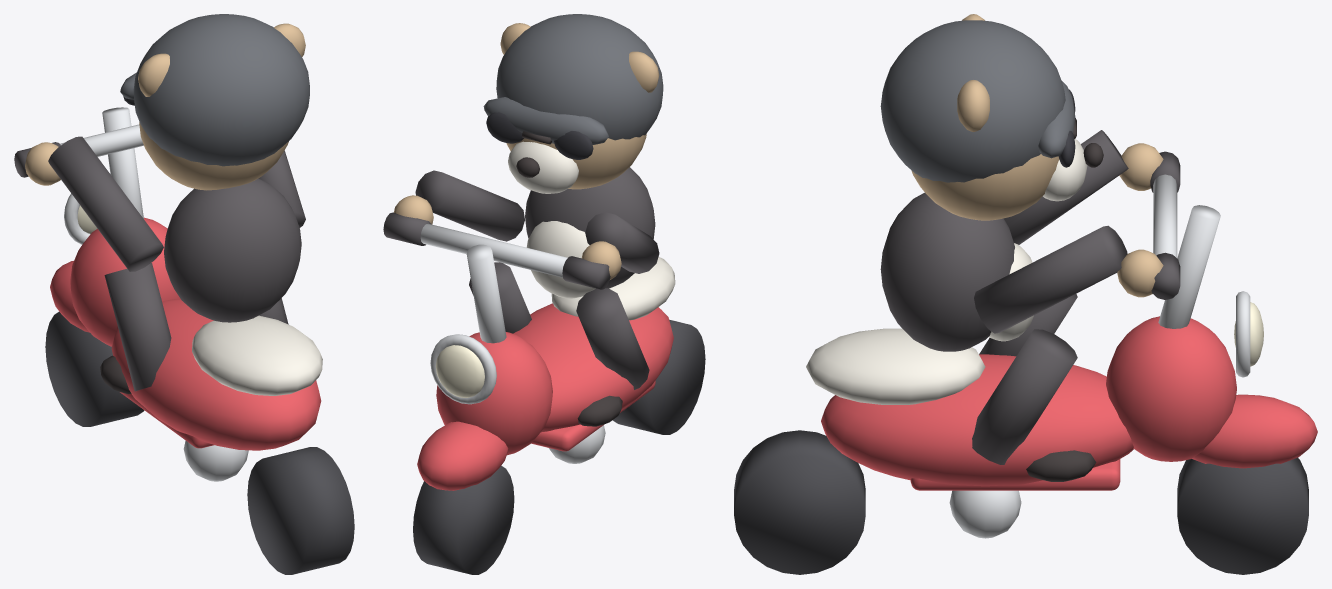
Rendered from Pet_BikerThug.fbx.
The picture shows the model from 3 angles, left to right: view 1: azimuth 30°, elevation 25°; view 2: azimuth 150°, elevation 25°; view 3: azimuth 270°, elevation 25°; orthographic projection. The views are drawn at different scales.
Visible parts, largest first — view 1: Helmet, Torso, Pet_BikerThug, WheelB, Seat, ArmL, WheelF, LegL, Front, Head, Column, WheelB_Hub (+9 smaller); view 2: Helmet, Pet_BikerThug, WheelF, Front, Torso, WheelB, FenderF, ArmR, LegL, Handlebar, Seat, Visor (+19 smaller); view 3: Helmet, Pet_BikerThug, WheelB, Torso, Front, WheelF, Seat, ArmR, LegR, FenderF, Head, Column (+15 smaller).
Boxes of the visible parts, bbox=[...] form: Helmet: bbox=[133, 14, 309, 166]; Torso: bbox=[164, 178, 301, 322]; Pet_BikerThug: bbox=[111, 299, 321, 450]; WheelB: bbox=[247, 447, 354, 574]; Seat: bbox=[192, 315, 322, 395]; ArmL: bbox=[48, 136, 163, 271]; WheelF: bbox=[45, 311, 144, 426]; LegL: bbox=[104, 263, 171, 391]; Front: bbox=[70, 217, 180, 346]; Head: bbox=[139, 122, 288, 190]; Column: bbox=[102, 107, 143, 218]; WheelB_Hub: bbox=[183, 440, 248, 481]; Helmet: bbox=[496, 14, 663, 140]; Pet_BikerThug: bbox=[513, 303, 673, 432]; WheelF: bbox=[413, 465, 514, 574]; Front: bbox=[436, 332, 552, 455]; Torso: bbox=[525, 167, 655, 288]; WheelB: bbox=[612, 319, 705, 434]; FenderF: bbox=[417, 421, 508, 490]; ArmR: bbox=[415, 170, 524, 241]; LegL: bbox=[576, 288, 649, 389]; Handlebar: bbox=[420, 223, 567, 277]; Seat: bbox=[551, 257, 675, 320]; Visor: bbox=[483, 97, 608, 144]; Helmet: bbox=[880, 20, 1065, 182]; Pet_BikerThug: bbox=[821, 354, 1133, 486]; WheelB: bbox=[734, 430, 865, 574]; Torso: bbox=[880, 192, 1014, 351]; Front: bbox=[1106, 316, 1236, 461]; WheelF: bbox=[1177, 457, 1308, 574]; Seat: bbox=[806, 328, 985, 404]; ArmR: bbox=[974, 225, 1127, 333]; LegR: bbox=[972, 329, 1077, 464]; FenderF: bbox=[1192, 394, 1317, 468]; Head: bbox=[911, 154, 1059, 220]; Column: bbox=[1158, 205, 1220, 328].
Size of the model in its own units: 0.9922 by 1.96 by 1.95.
